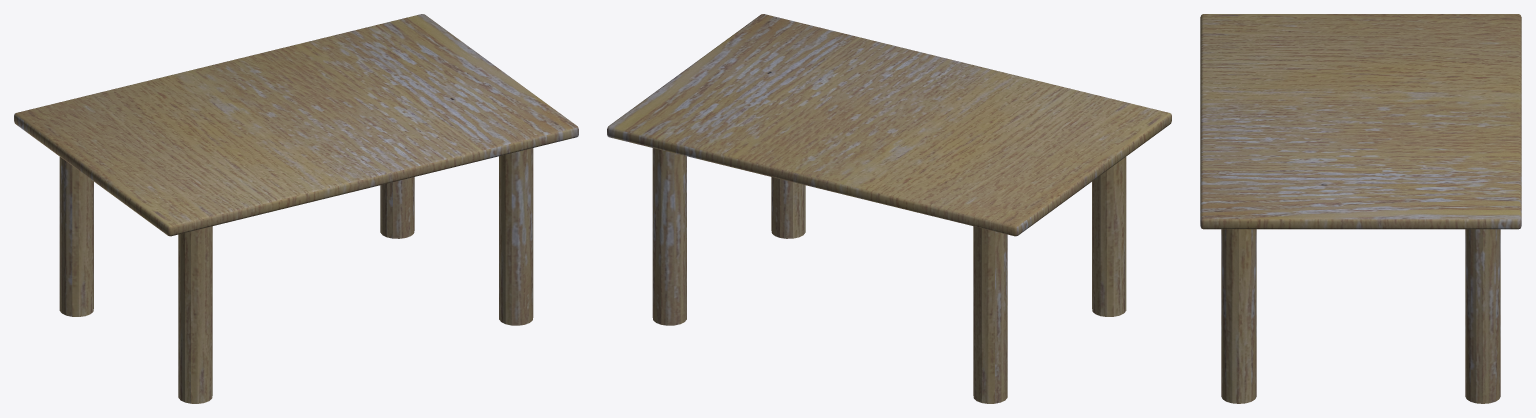
File: Antique_Table_11.fbx
3 renders of one model, left to right at view 1: azimuth 30°, elevation 25°; view 2: azimuth 150°, elevation 25°; view 3: azimuth 270°, elevation 25°, orthographic. The views are drawn at different scales.
Parts seen in each view (by area): view 1: Antique_Table; view 2: Antique_Table; view 3: Antique_Table.
Boxes of the visible parts, <box> form: Antique_Table: <box>14,14,578,403</box>; Antique_Table: <box>607,14,1171,403</box>; Antique_Table: <box>1200,14,1521,403</box>.
Bounding box in the file's own units: 1.9 × 0.86 × 1.25.
Materials: 1 (1 with a texture image).
